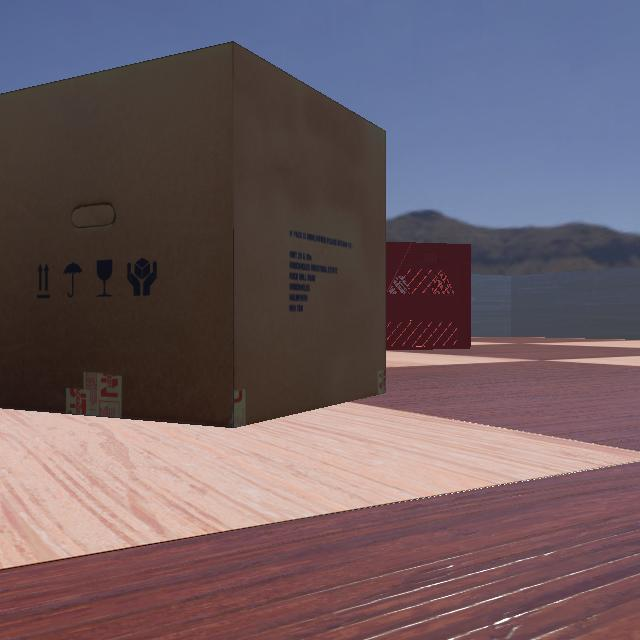cardboard-box: (0, 40, 416, 428), (0, 40, 416, 428)
plastic-crate: (338, 240, 477, 350)
